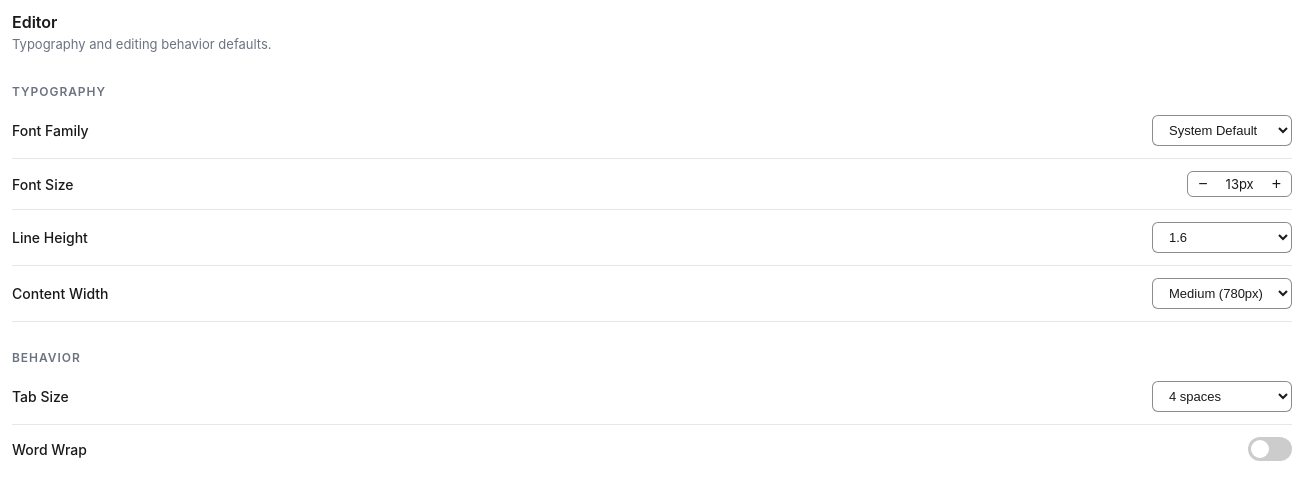
Test: WI-4.3b: the Font Size stepper's disabled reason › stepping down to the bound shows the reason at once
The image size is (1304, 486).
Expected: the heading "Font Family" is shown, [12,122,89,139]
Expected: the text "Smallest size is 12px" is not shown
Click the button named "Decrease" at point(1203, 184), box [1194,174,1212,194]
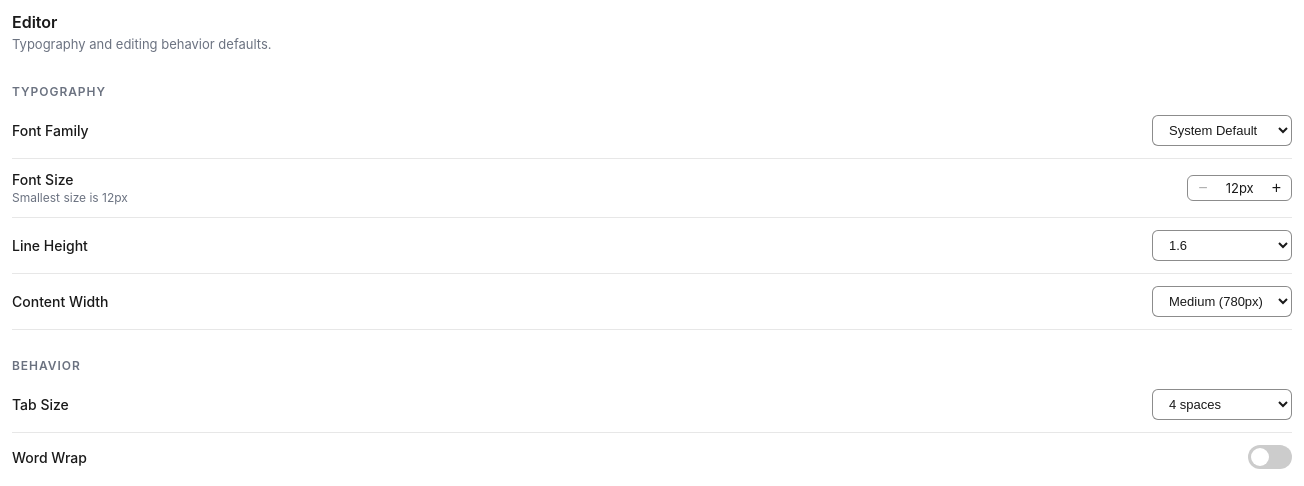
Expected: the text "Smallest size is 12px" is shown, [12,190,128,205]
